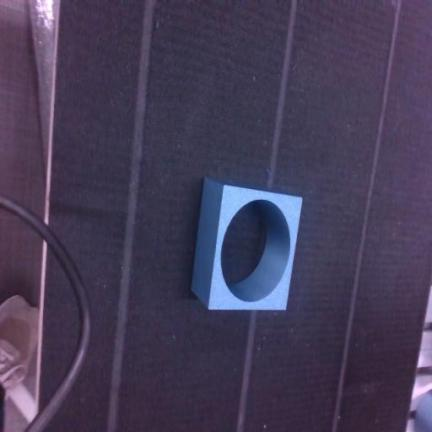square: (192, 178, 302, 309)
